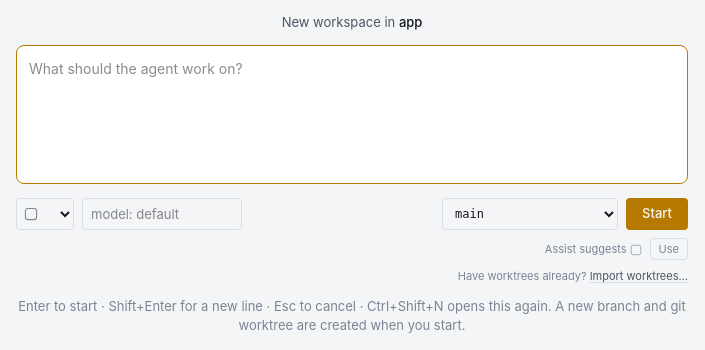
Test: Composer › keeps the message and explains when starting fails
In the text box labelled "What should the agent work on?": (352, 114) [16,45,688,184], type "important thoughts"
Then press Enter
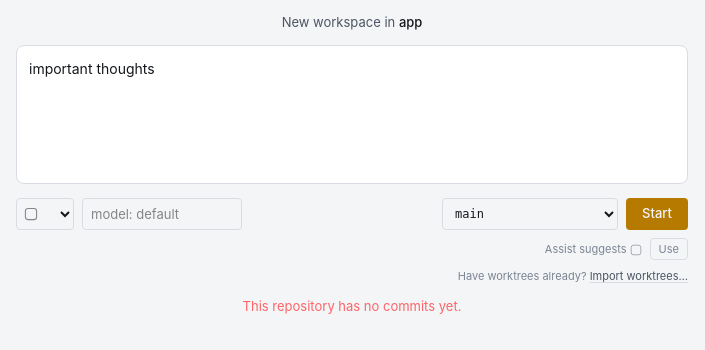
Expected: the message shows "no commits yet", [243,298,461,314]
